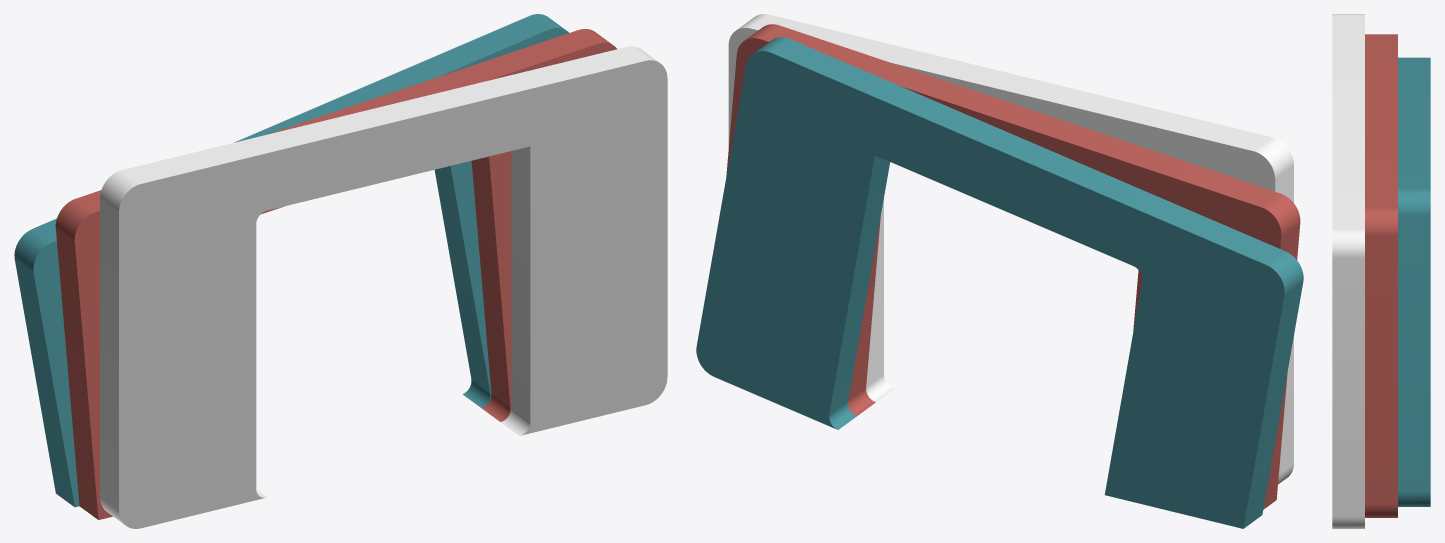
Rendered from Gapura.fbx.
3 views of the same model, side by side, from view 1: azimuth 30°, elevation 25°; view 2: azimuth 150°, elevation 25°; view 3: azimuth 270°, elevation 25° (orthographic). The views are drawn at different scales.
Visible parts, largest first — view 1: freepolygon.com; view 2: freepolygon.com; view 3: freepolygon.com.
Boxes of the visible parts, x1,y1,x2,y2 form: freepolygon.com: (14,14,667,528); freepolygon.com: (696,14,1303,528); freepolygon.com: (1332,14,1430,528).
Size of the model in its own units: 543 by 316 by 90.
